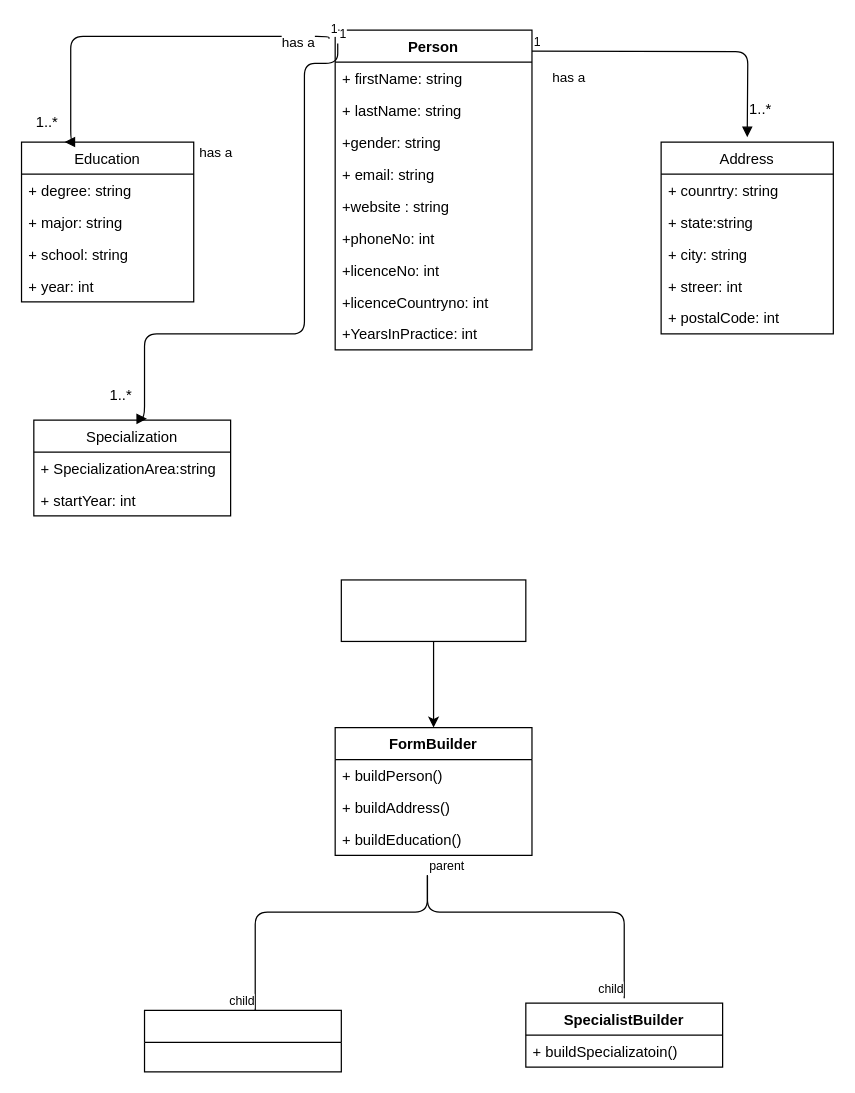
Some shapes in this 855 by 1093 pixel diagram are drawn without their labels. The shapes that lost their labels are listed below. From the top down, each one's centre as x and y in pixels, then its label:
the point at 433,610: «interface» FormBuilderInterface
the point at 242,1040: NonSpecialist Builder
